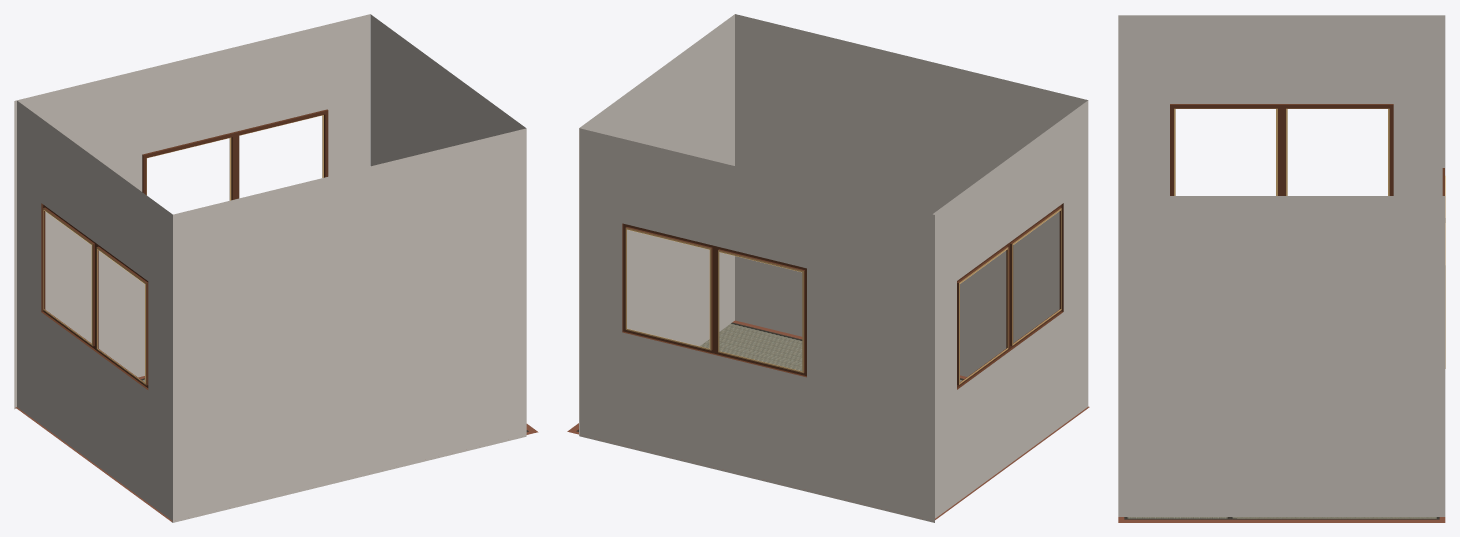
File: wamodan_env.glb
The picture shows the model from 3 angles, left to right: view 1: azimuth 30°, elevation 25°; view 2: azimuth 150°, elevation 25°; view 3: azimuth 270°, elevation 25°; orthographic projection. The views are drawn at different scales.
Visible parts, largest first — view 1: 平面; view 2: 平面; view 3: 平面.
Part boxes in pixels (box(x1,y1,x2,y2)): 平面: box(14, 14, 538, 522); 平面: box(567, 14, 1089, 522); 平面: box(1118, 15, 1445, 522).
Size of the model in its own units: 3.73 by 2.98 by 2.74.
6 materials, 1 textured.
